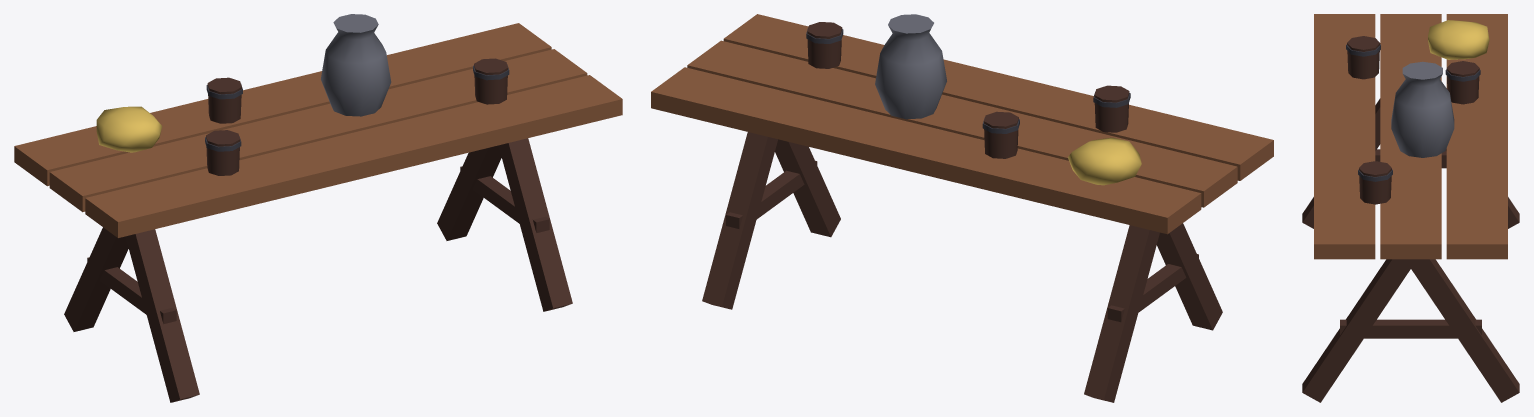
File: tavern_table.glb
3 renders of one model, left to right at view 1: azimuth 30°, elevation 25°; view 2: azimuth 150°, elevation 25°; view 3: azimuth 270°, elevation 25°, orthographic. The views are drawn at different scales.
Visible parts, largest first — view 1: plank; view 2: plank; view 3: plank.
Boxes of the visible parts, x1,y1,x2,y2 form: plank: (14, 14, 622, 402); plank: (651, 14, 1273, 402); plank: (1302, 14, 1519, 402).
Size of the model in its own units: 2.3 by 1.22 by 0.9168.
